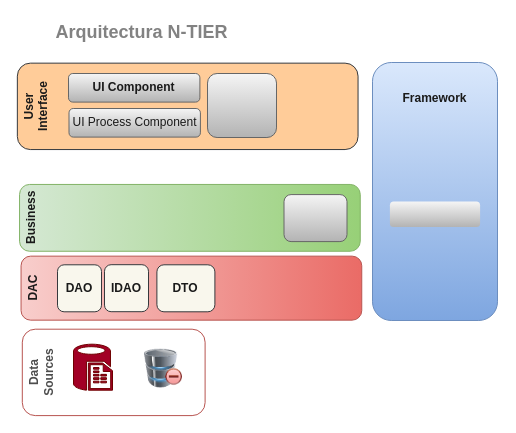
Some shapes in this 516 by 433 pixel diagram are drawn without their labels. Each missing label, with the centre of its shape:
"Business Entities" belongs at point 315,218.
"Controller UIC" belongs at point 241,105.
"database" belongs at point 163,368.
"Exception" belongs at point 434,214.
"SQLITE" belongs at point 92,366.
